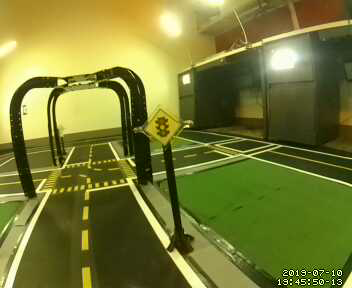Traffic light sign: (143, 107, 183, 147)
